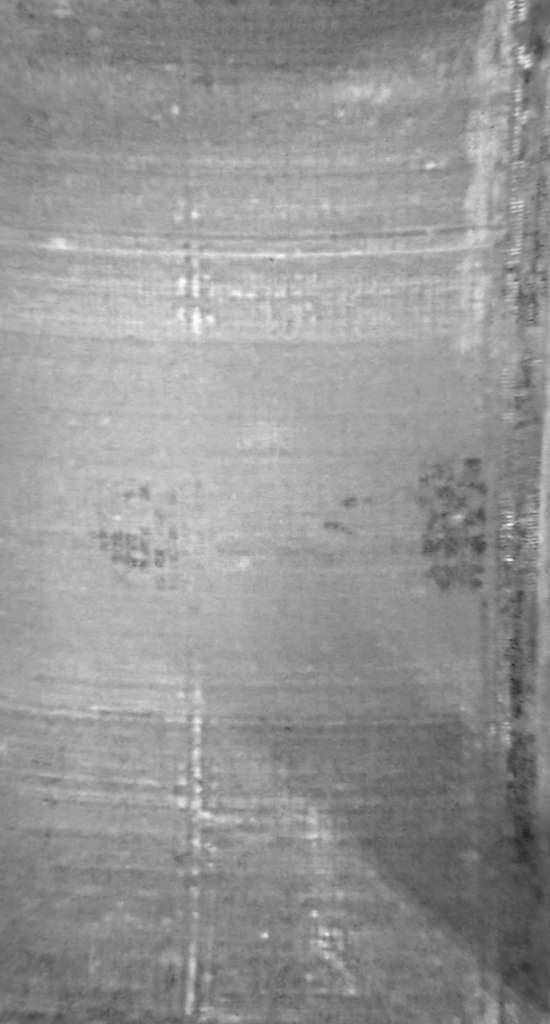splice: (487, 5, 550, 1024)
